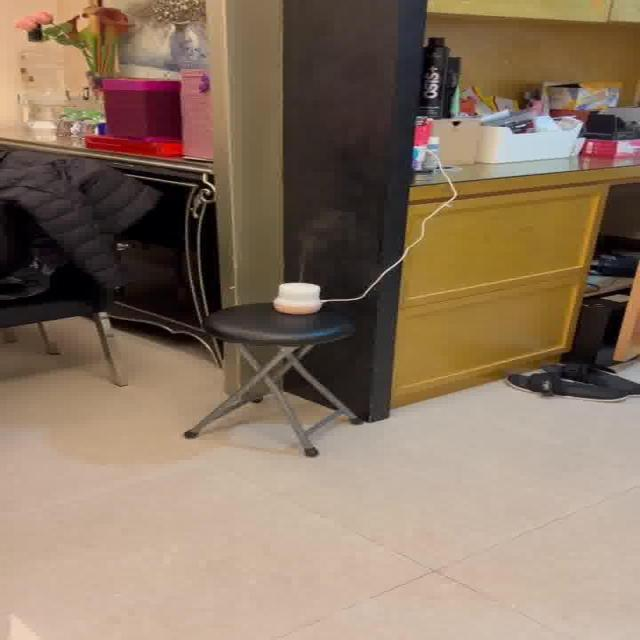fire: (298, 204, 358, 276)
